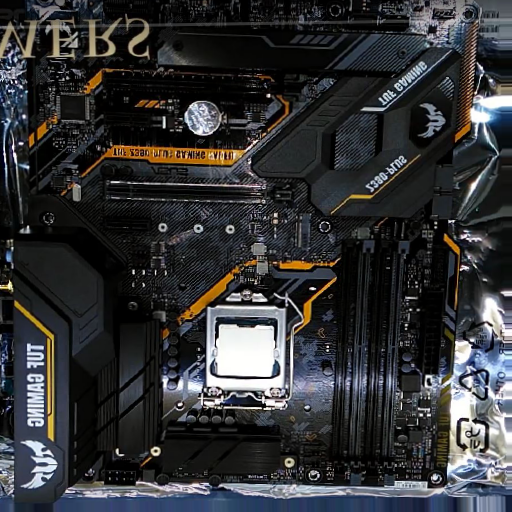CPU: (202, 288, 288, 407)
GPU: (102, 70, 305, 100), (105, 178, 295, 207)
MOTHERBOARD: (28, 1, 480, 485)
RAM: (332, 240, 411, 485)
SSD: (296, 213, 312, 250)
